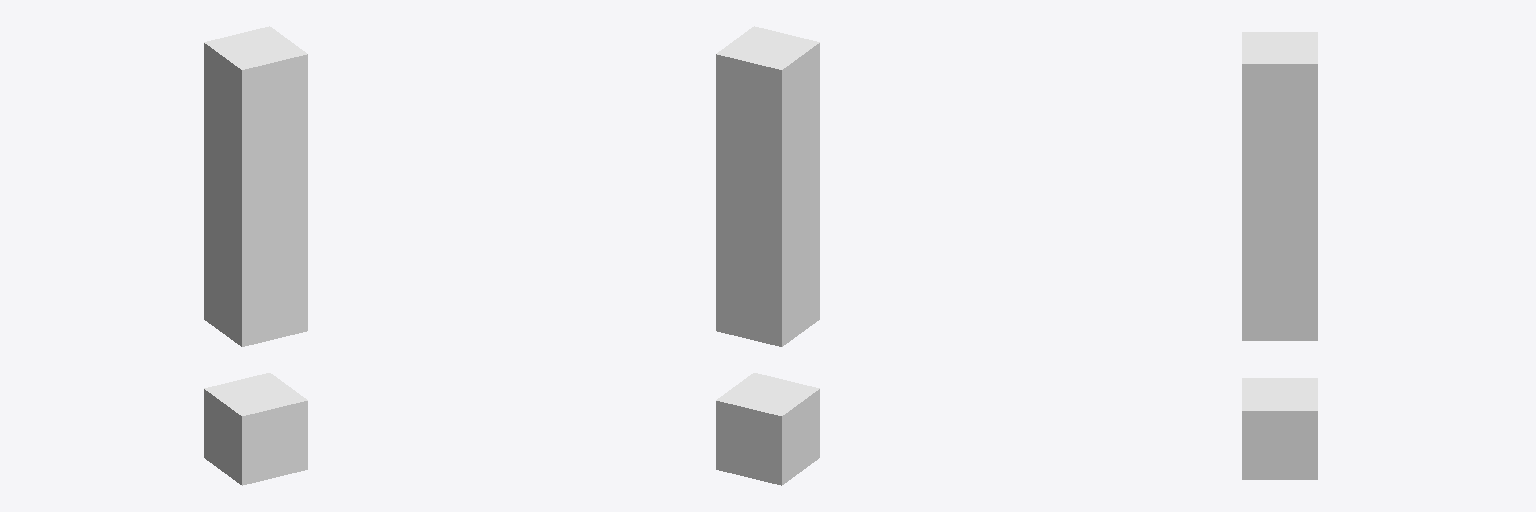
Rendered from ex_mark.obj.
The picture shows the model from 3 angles: view 1: azimuth 30°, elevation 25°; view 2: azimuth 150°, elevation 25°; view 3: azimuth 270°, elevation 25°; orthographic projection.
Visible parts, largest first — view 1: object 1; view 2: object 1; view 3: object 1.
Boxes of the visible parts, x1=… form: object 1: x1=204, y1=26, x2=307, y2=485; object 1: x1=716, y1=26, x2=819, y2=485; object 1: x1=1242, y1=32, x2=1317, y2=479.
Bounding box in the file's own units: 0.2 × 1.2 × 0.2.